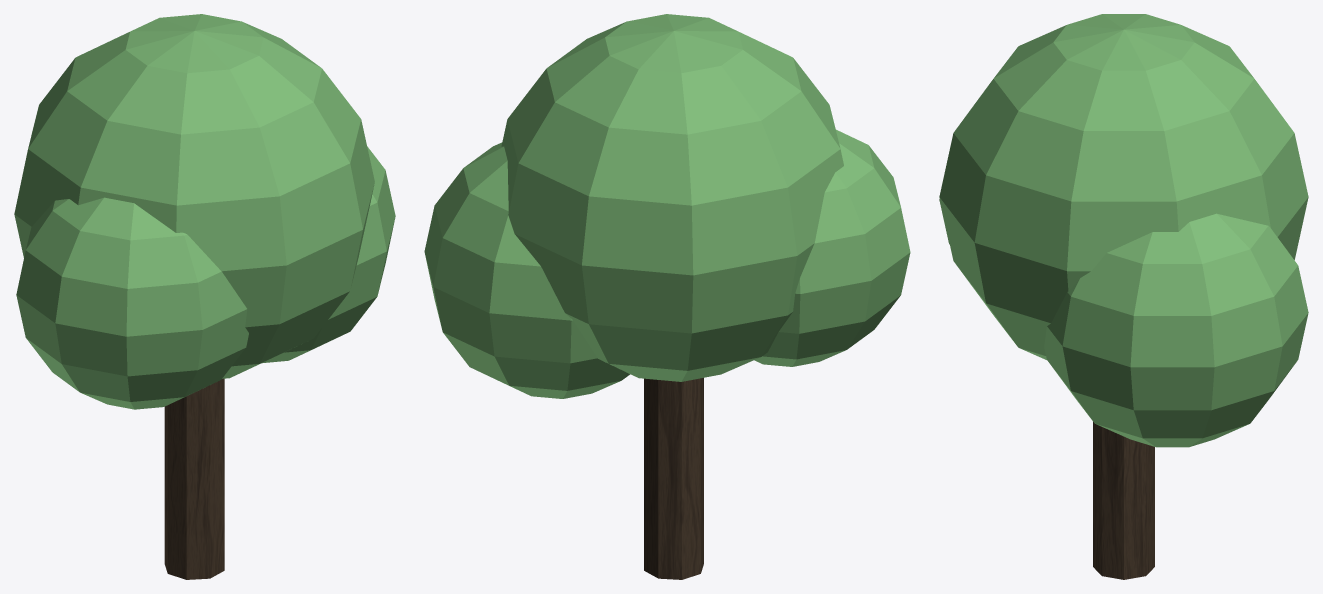
File: tree_broadleaf.glb
The picture shows the model from 3 angles, left to right: view 1: azimuth 30°, elevation 25°; view 2: azimuth 150°, elevation 25°; view 3: azimuth 270°, elevation 25°; orthographic projection.
Parts seen in each view (by area): view 1: BLeaf_Canopy_A, BLeaf_Canopy_C, BLeaf_Trunk, BLeaf_Canopy_B; view 2: BLeaf_Canopy_A, BLeaf_Canopy_B, BLeaf_Canopy_C, BLeaf_Trunk; view 3: BLeaf_Canopy_A, BLeaf_Canopy_B, BLeaf_Trunk.
Part boxes in pixels (<box>): BLeaf_Canopy_A: <box>14,14,374,378</box>; BLeaf_Canopy_C: <box>16,197,248,409</box>; BLeaf_Trunk: <box>164,378,224,579</box>; BLeaf_Canopy_B: <box>262,146,395,363</box>; BLeaf_Canopy_A: <box>501,14,843,381</box>; BLeaf_Canopy_B: <box>424,142,630,398</box>; BLeaf_Canopy_C: <box>754,129,910,366</box>; BLeaf_Trunk: <box>644,378,703,579</box>; BLeaf_Canopy_A: <box>939,14,1308,359</box>; BLeaf_Canopy_B: <box>1044,213,1308,447</box>; BLeaf_Trunk: <box>1093,422,1154,579</box>.
Bounding box in the file's own units: 2.33 × 3.05 × 1.9.
Materials: 2 (1 with a texture image).
